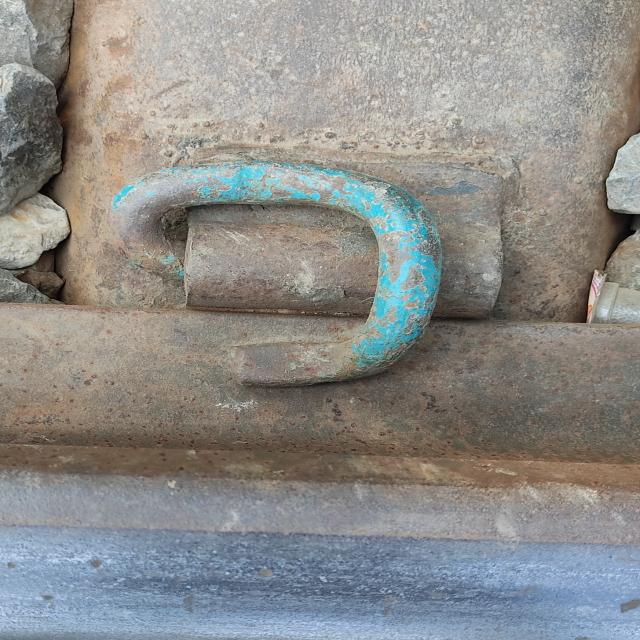track_bolt: (99, 152, 458, 396)
